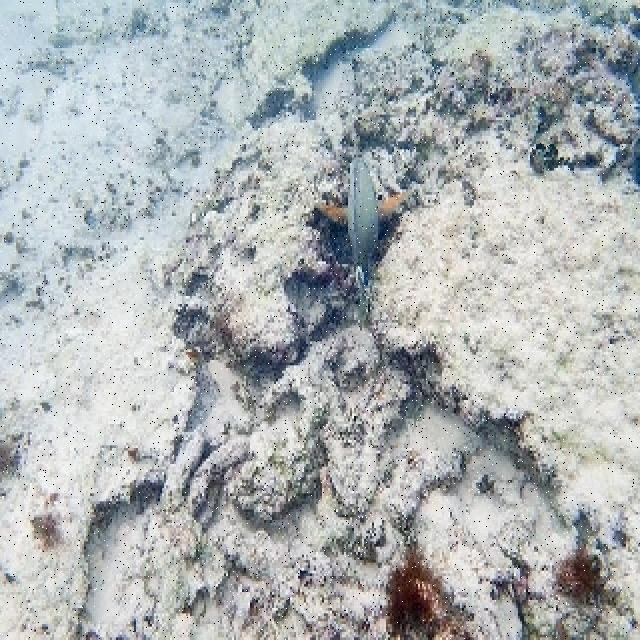fish: (315, 156, 413, 264)
reefs: (386, 541, 475, 637), (556, 547, 605, 604)
